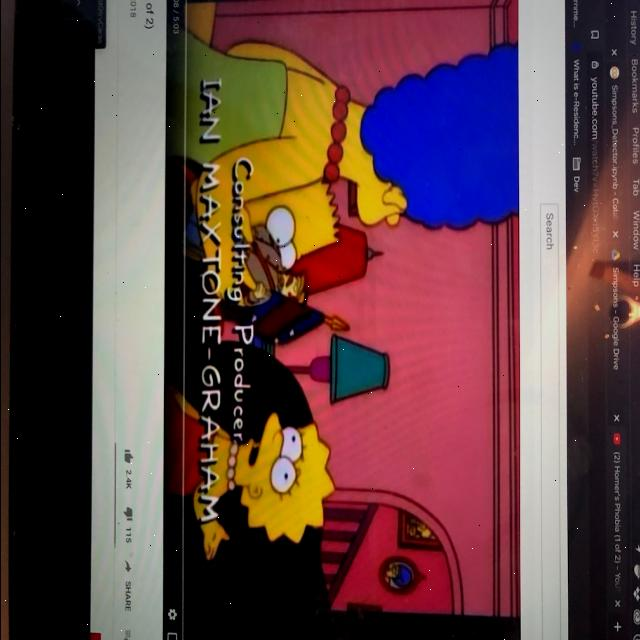Lisa Simpson: (225, 408, 335, 548)
Marge Simpson: (320, 37, 518, 239)
